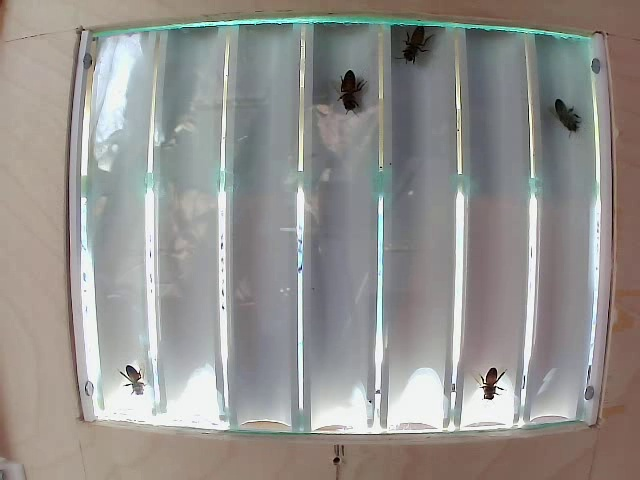bee: (326, 69, 384, 118), (385, 26, 441, 64), (472, 352, 516, 393), (551, 95, 582, 140), (122, 367, 149, 396)
